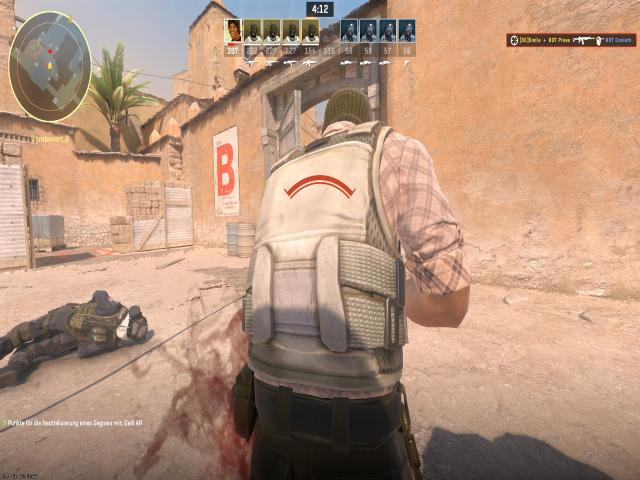Dead: (0, 286, 150, 365)
T: (248, 87, 416, 469)
T-Head: (321, 88, 378, 136)
